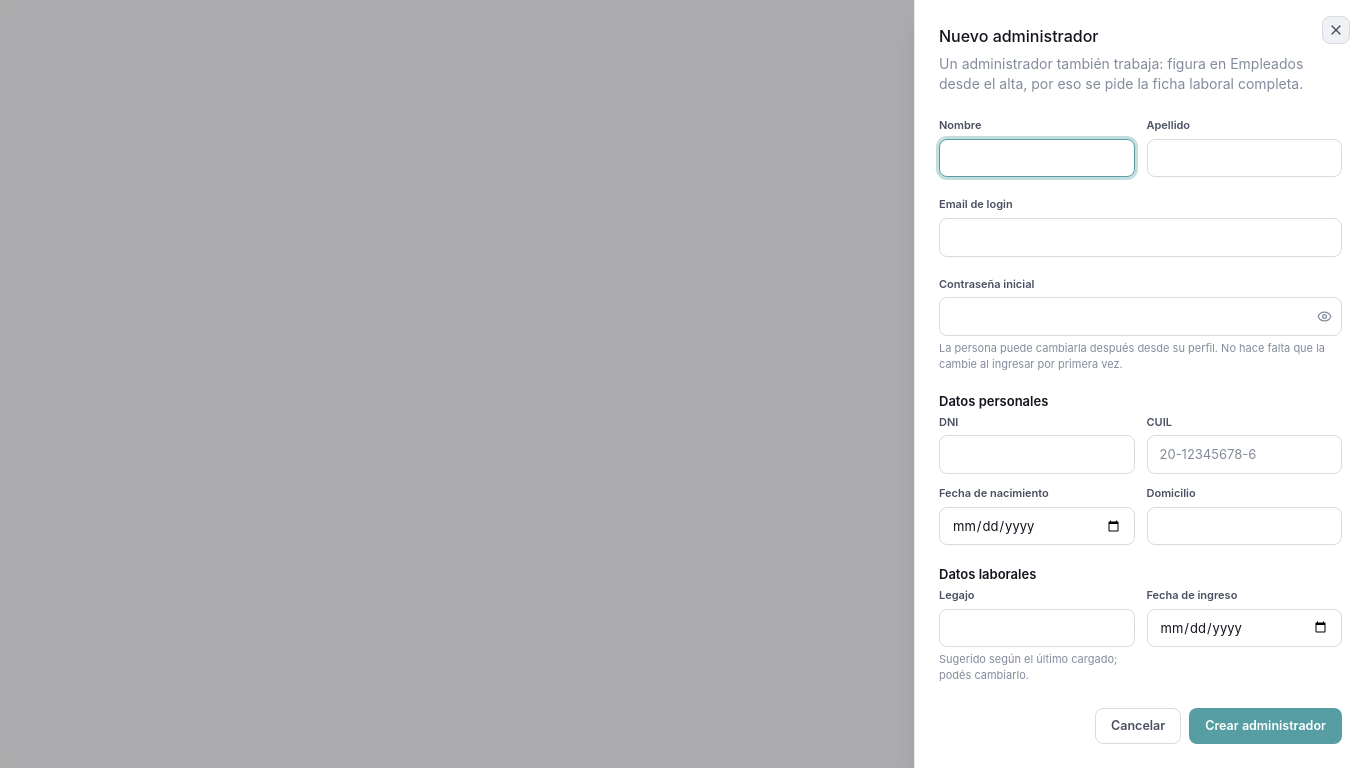
Test: NewAdminUserSheet · ficha laboral (CR-17) › si el servidor devuelve DNI repetido lo marca en el campo
In the field with id "new-admin-first-name": (1037, 158) [939,139,1134,177], type "Ana"
In the field with id "new-admin-last-name": (1244, 158) [1146,139,1342,177], type "Gómez"
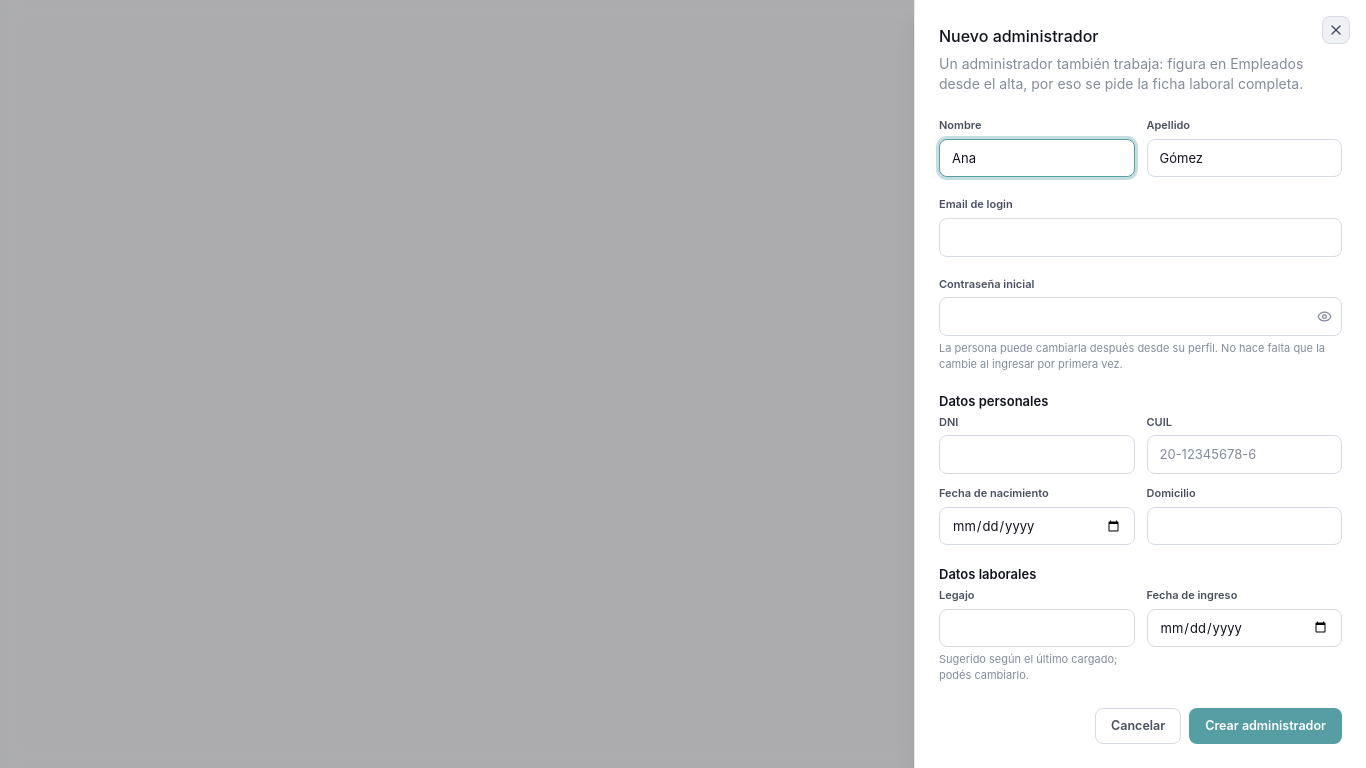
In the field with id "new-admin-email": (1140, 237) [939,218,1342,257], type "ana@ejemplo.com"
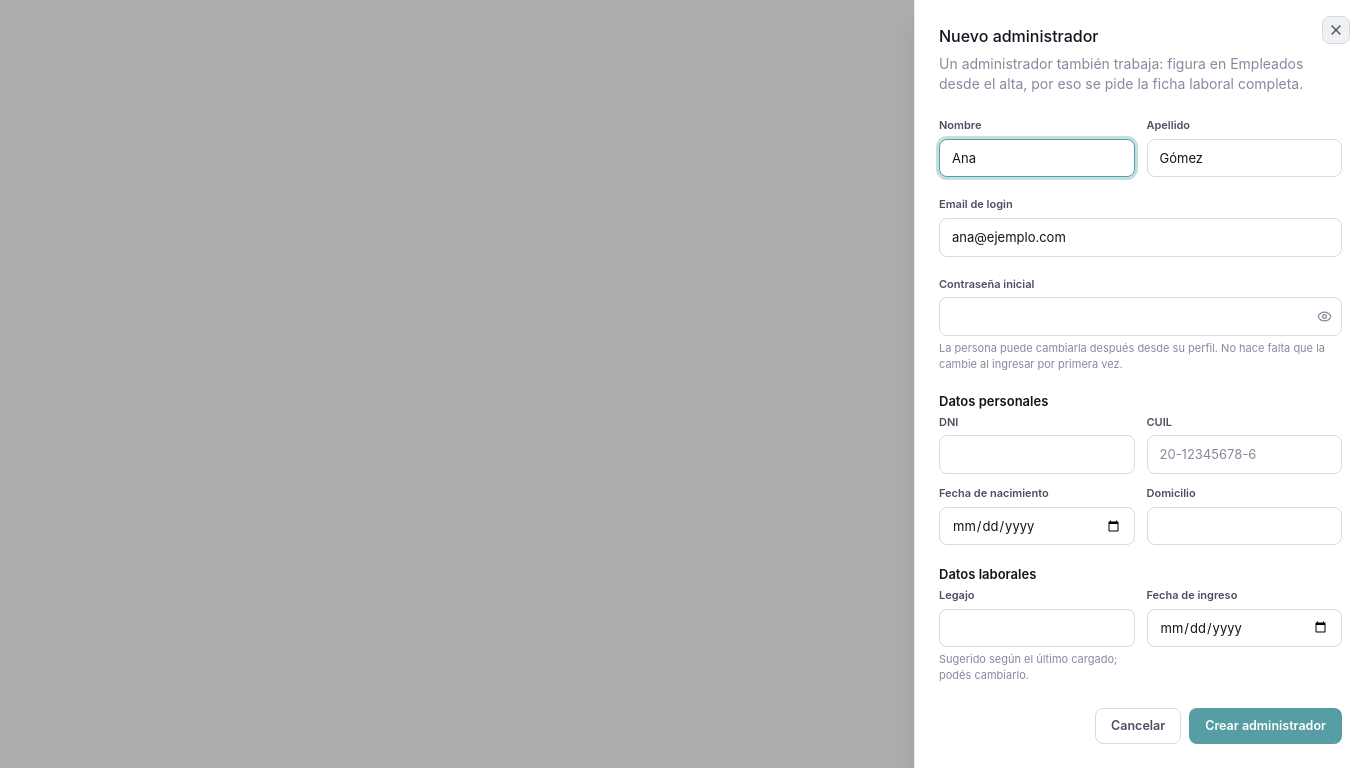
In the password field with id "new-admin-password": (1140, 316) [939,297,1342,336], type "clave-segura-1"
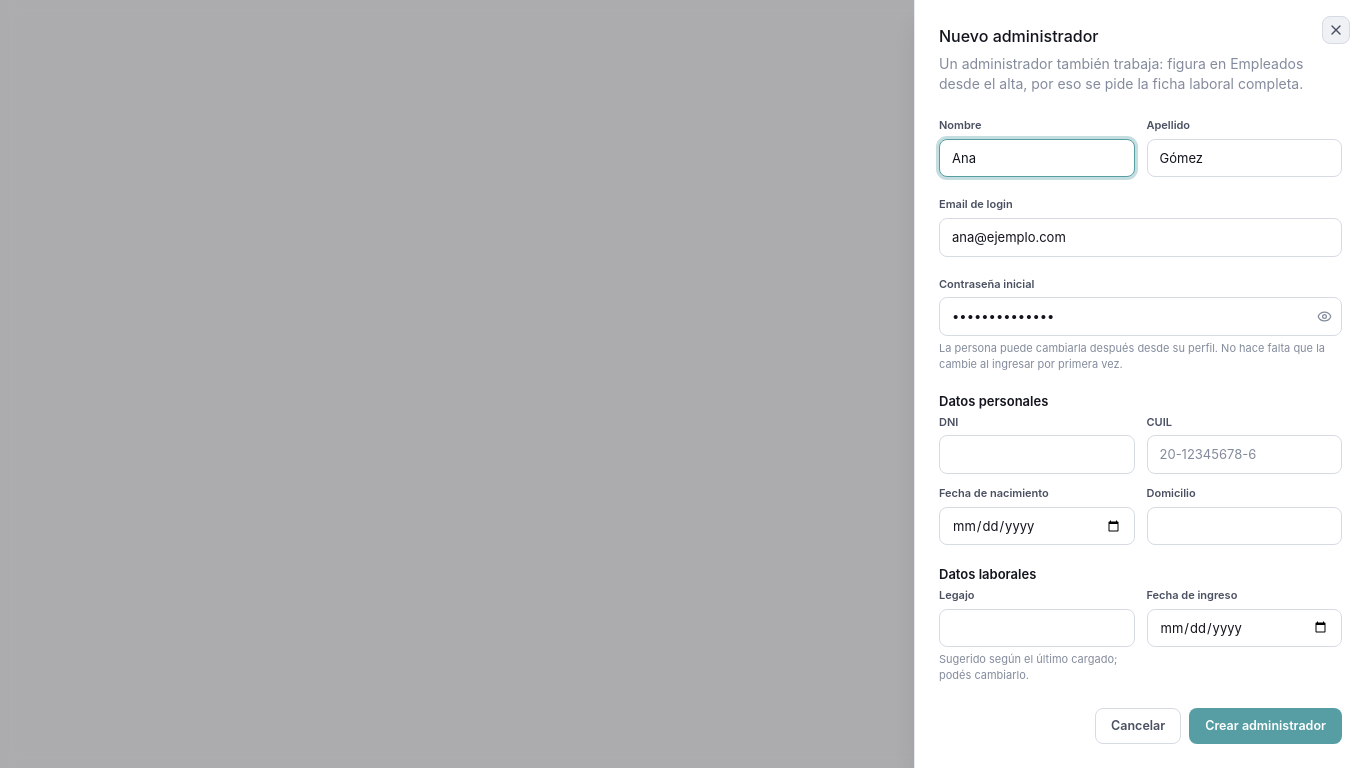
In the field with id "new-admin-dni": (1037, 455) [939,436,1134,474], type "30123456"
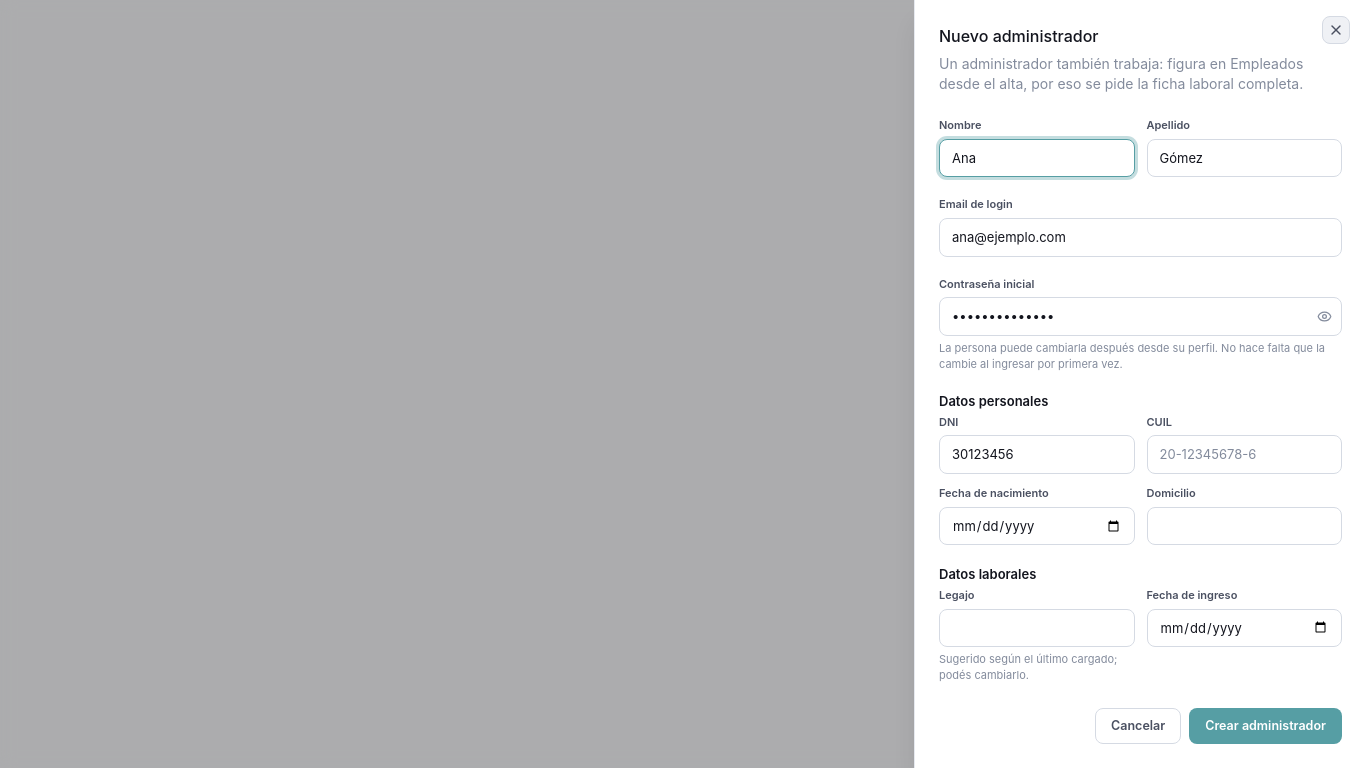
In the number field with id "new-admin-number": (1037, 628) [939,609,1134,647], type "9"
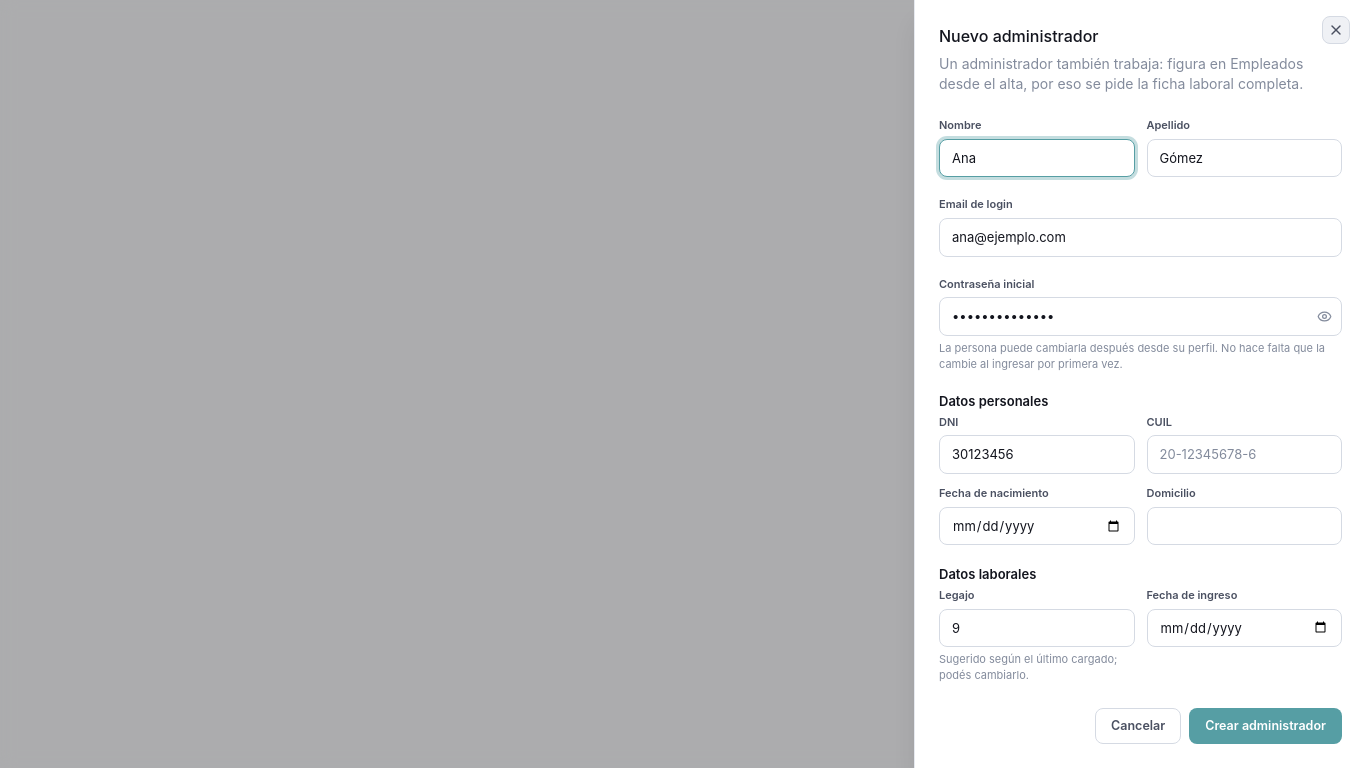
Click the button "Crear administrador": (1266, 726) [1189,708,1342,744]
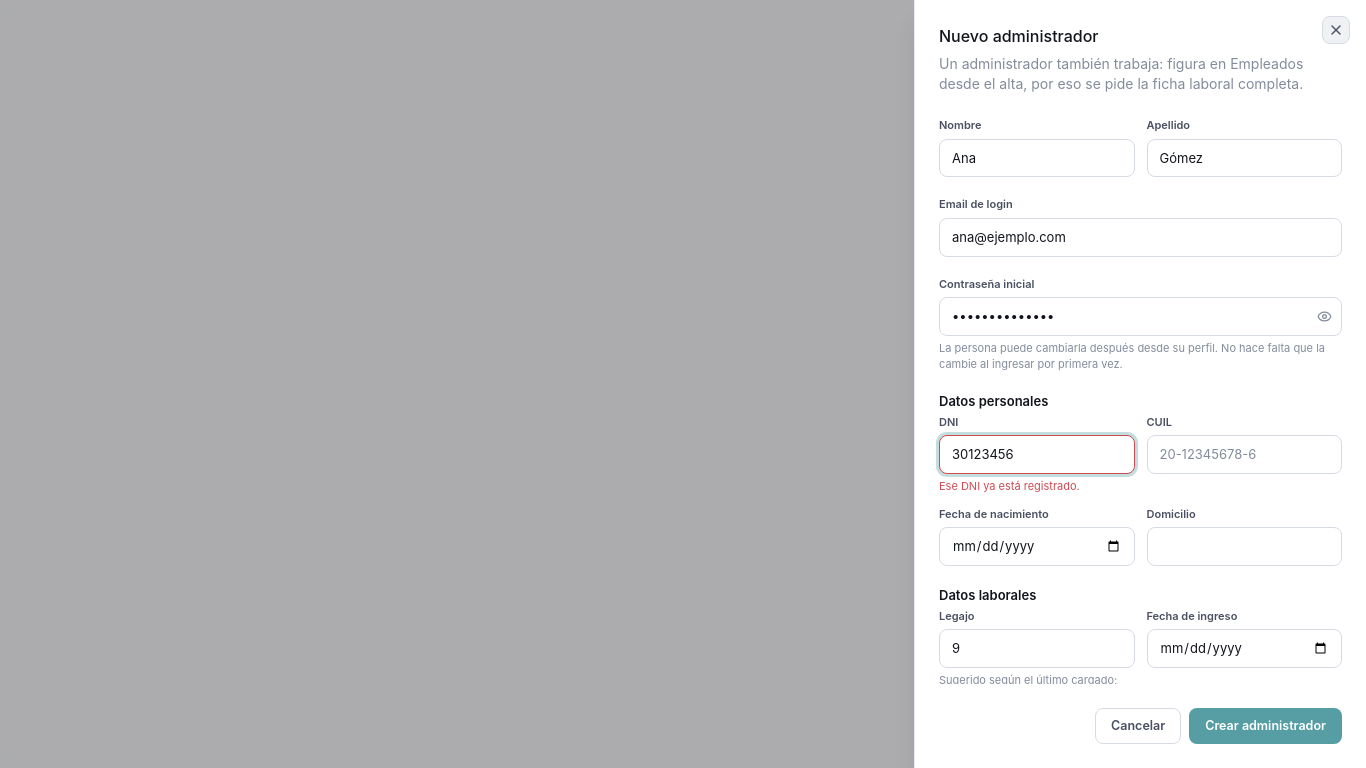
Expected: the text "Ese DNI ya está registrado." is shown, [939,479,1080,493]
